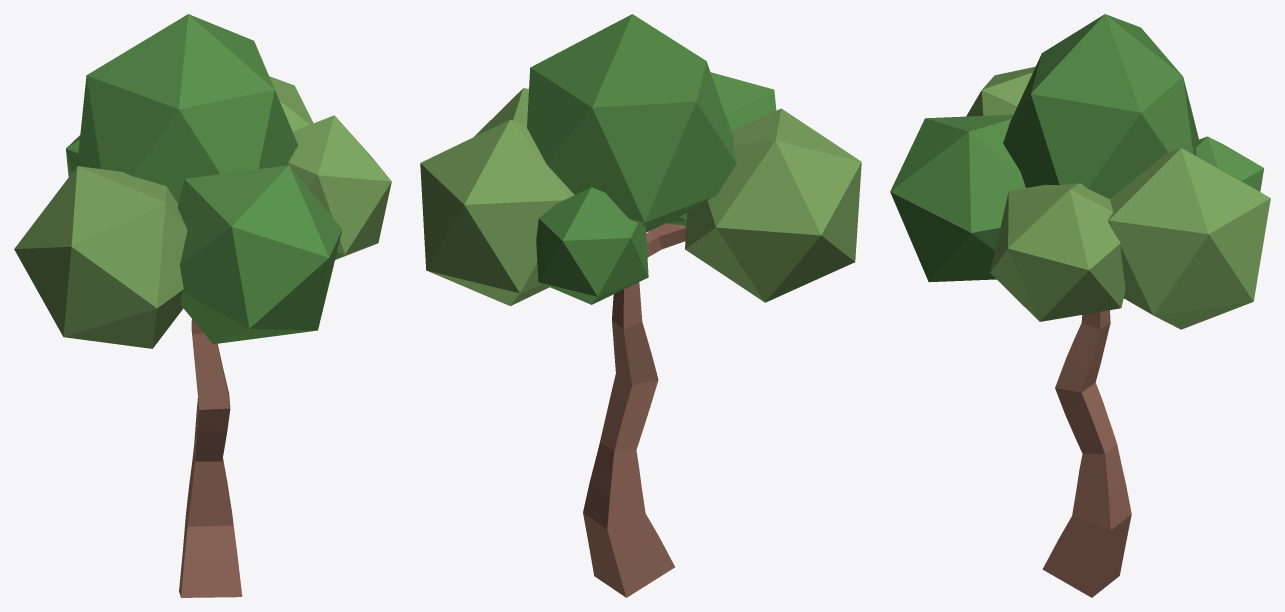
File: low_poly_tree.fbx
3 renders of one model, left to right at view 1: azimuth 30°, elevation 25°; view 2: azimuth 150°, elevation 25°; view 3: azimuth 270°, elevation 25°, orthographic. The views are drawn at different scales.
Visible parts, largest first — view 1: zbab ağacı; view 2: zbab ağacı; view 3: zbab ağacı.
Part boxes in pixels (bbox=[...]): zbab ağacı: bbox=[14, 14, 391, 597]; zbab ağacı: bbox=[420, 14, 861, 597]; zbab ağacı: bbox=[890, 14, 1270, 597].
Bounding box in the file's own units: 257 × 400 × 245.
